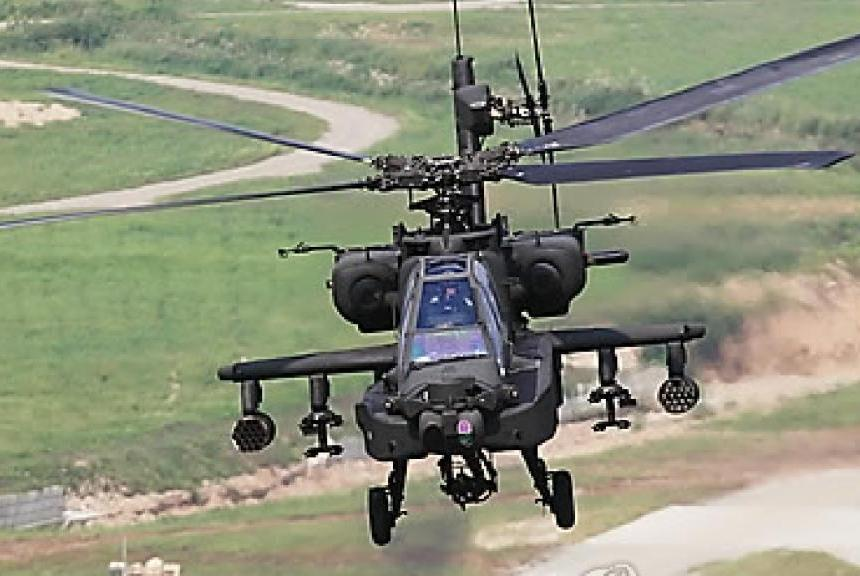MilitaryHelicopter: (164, 57, 722, 518)
